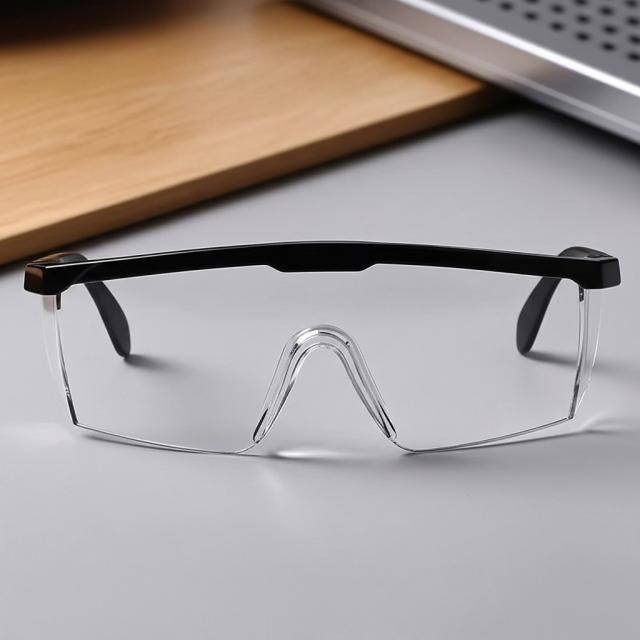oculos-epi: (25, 241, 619, 452)
